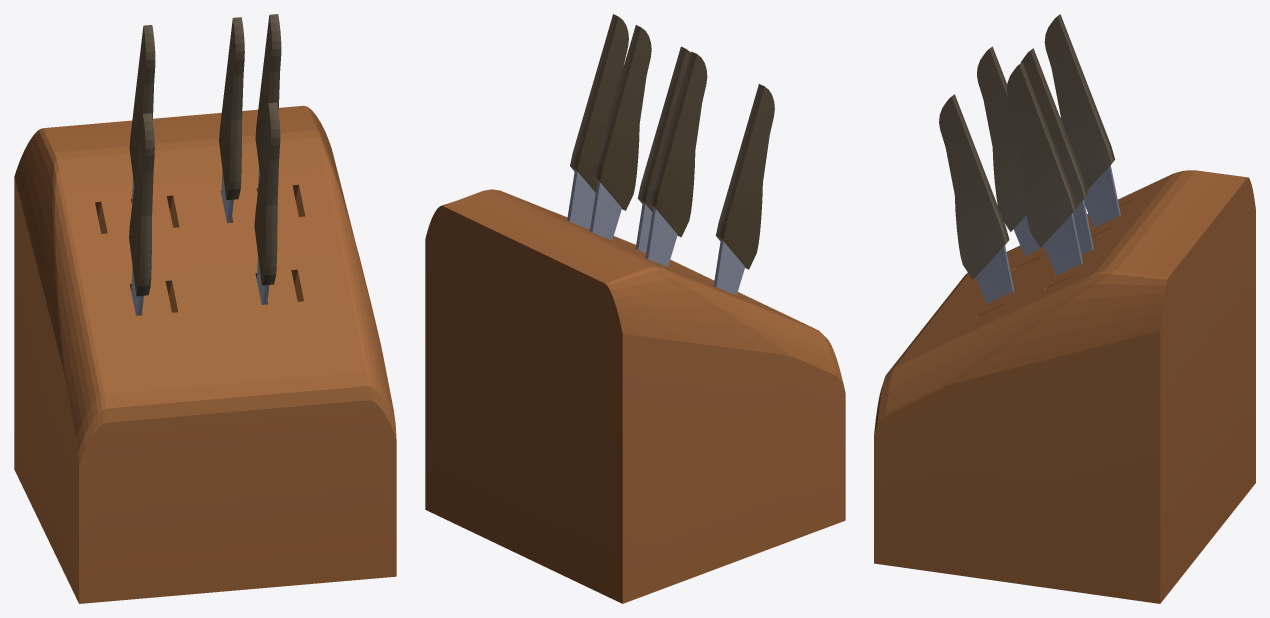
Rendered from Knifes.fbx.
The picture shows the model from 3 angles, left to right: view 1: azimuth 30°, elevation 25°; view 2: azimuth 150°, elevation 25°; view 3: azimuth 270°, elevation 25°; orthographic projection. The views are drawn at different scales.
Parts seen in each view (by area): view 1: Cube.015; view 2: Cube.015; view 3: Cube.015.
Boxes of the visible parts, box(x1,y1,x2,y2) form: Cube.015: box(14, 14, 396, 603); Cube.015: box(425, 14, 845, 603); Cube.015: box(874, 14, 1255, 603).
Size of the model in its own units: 97.05 by 135 by 97.05.
